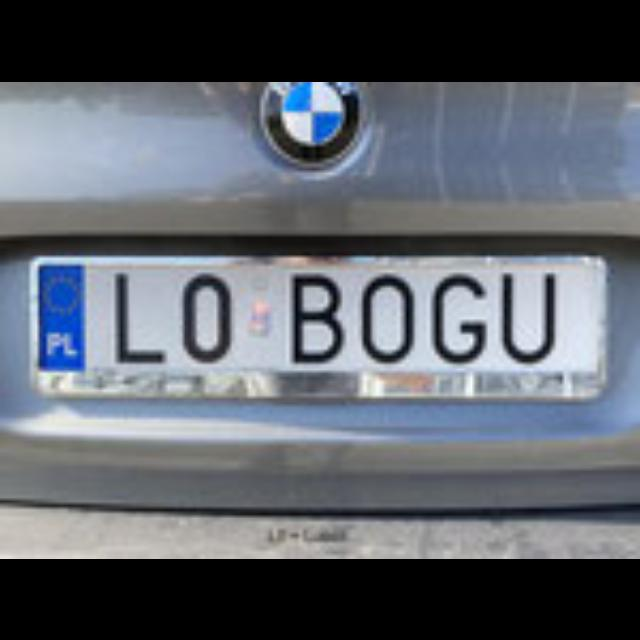pl_license_plate: (34, 261, 584, 367)
